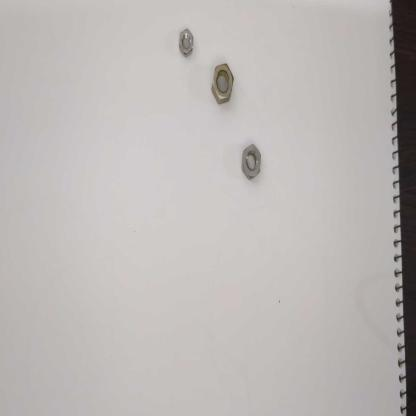NUTS: (208, 58, 238, 106), (240, 140, 263, 182)
